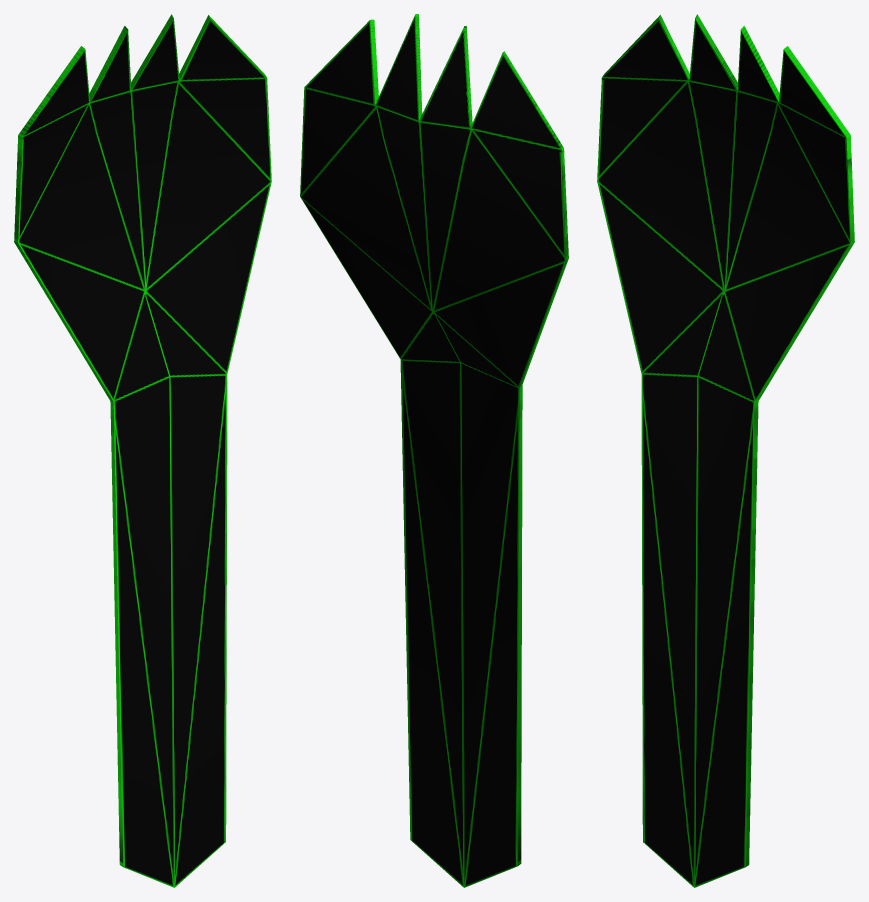
File: sporkWireframe.glb
3 views of the same model, side by side, from view 1: azimuth 30°, elevation 25°; view 2: azimuth 150°, elevation 25°; view 3: azimuth 330°, elevation 25° (orthographic). The views are drawn at different scales.
Visible parts, largest first — view 1: sporkWireframe; view 2: sporkWireframe; view 3: sporkWireframe.
Boxes of the visible parts, x1,y1,x2,y2 form: sporkWireframe: (14,14,271,887); sporkWireframe: (300,14,568,887); sporkWireframe: (597,14,854,887).
Bounding box in the file's own units: 0.0475 × 0.1507 × 0.0149.
Materials: 1 (1 with a texture image).
